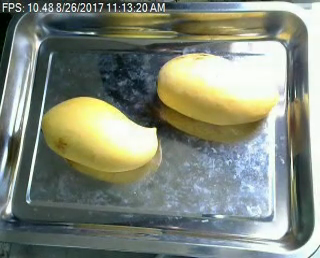Mango: (151, 47, 278, 128), (38, 93, 160, 168)
